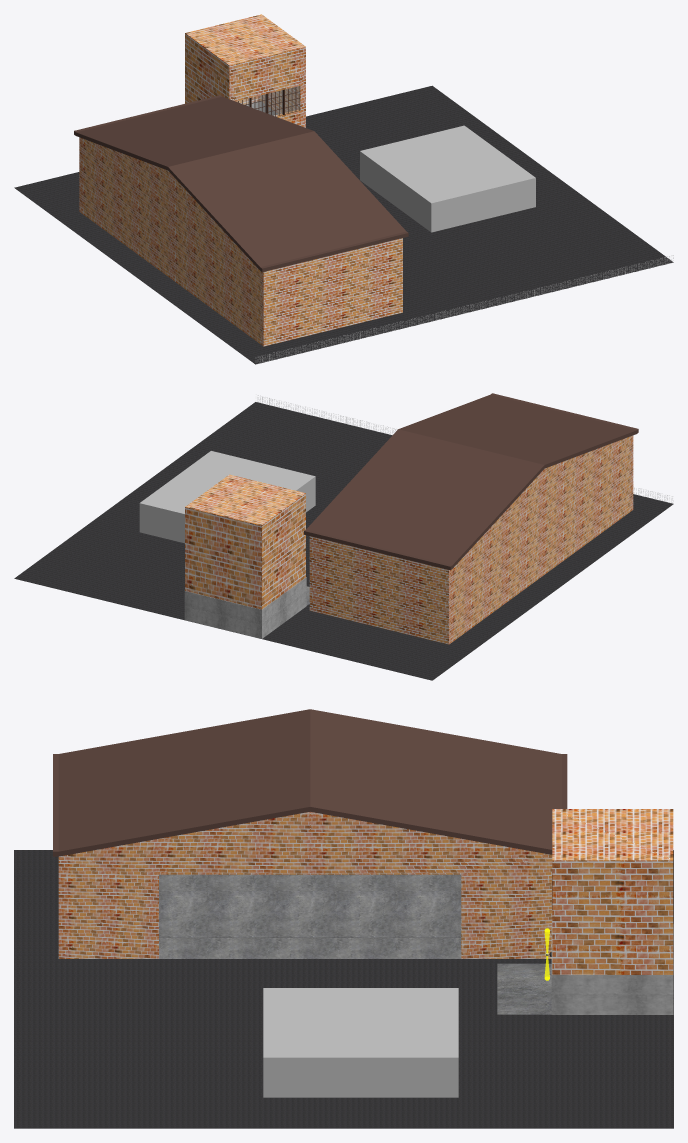
File: foundry.fbx
3 renders of one model, top to bottom at view 1: azimuth 30°, elevation 25°; view 2: azimuth 150°, elevation 25°; view 3: azimuth 270°, elevation 25°, orthographic. The views are drawn at different scales.
Visible parts, largest first — view 1: Export, Asphalt, Shipping Containers, Building, Plane, Window; view 2: Export, Asphalt, Building, Shipping Containers, Plane; view 3: Export, Asphalt, Building, Shipping Containers.
Boxes of the visible parts, bbox=[...] form: Export: bbox=[74, 95, 408, 346]; Asphalt: bbox=[14, 85, 673, 364]; Shipping Containers: bbox=[360, 125, 535, 232]; Building: bbox=[185, 14, 305, 127]; Plane: bbox=[255, 255, 673, 363]; Window: bbox=[236, 86, 299, 116]; Export: bbox=[304, 393, 638, 644]; Asphalt: bbox=[14, 402, 673, 680]; Building: bbox=[184, 474, 309, 638]; Shipping Containers: bbox=[139, 451, 315, 543]; Plane: bbox=[255, 395, 673, 503]; Export: bbox=[53, 709, 567, 958]; Asphalt: bbox=[14, 850, 673, 1128]; Building: bbox=[497, 809, 673, 1014]; Shipping Containers: bbox=[263, 988, 458, 1097].
Size of the model in its own units: 12000 by 3103 by 12000.
